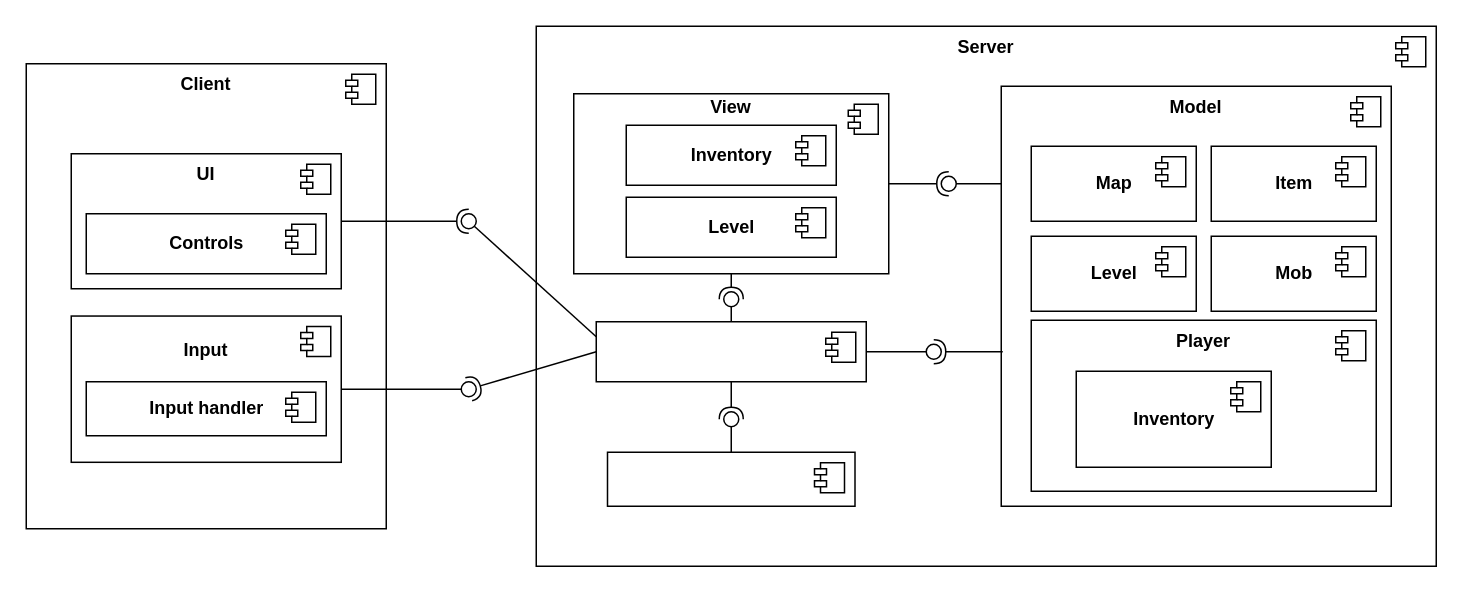
Image size: 1463x593. Some labels were removed from this diagram. Here are the shapes that lost their labels. From the top down, the box of each, then its label:
(595, 320, 866, 382): Controller
(606, 451, 855, 506): Mob AI
